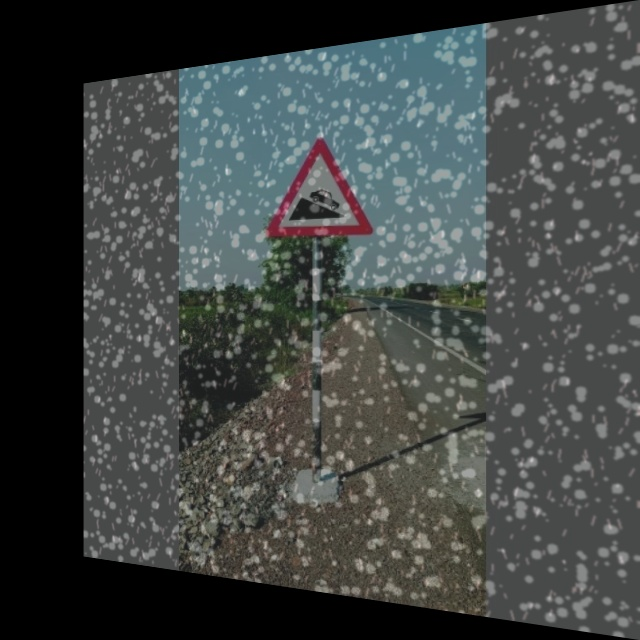Steep_Descent: (267, 132, 367, 238)
